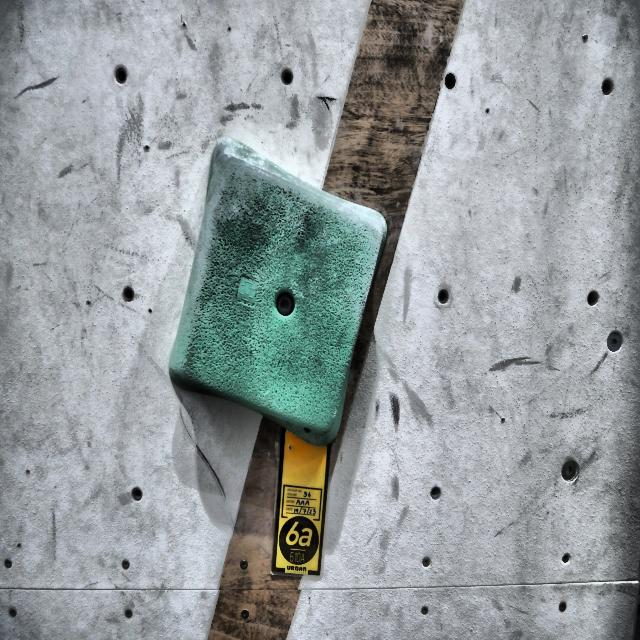Hold: (164, 140, 387, 457)
